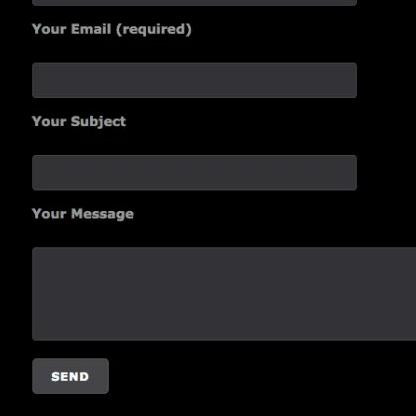button: (32, 356, 111, 397)
field: (31, 61, 360, 100), (30, 154, 360, 191)
